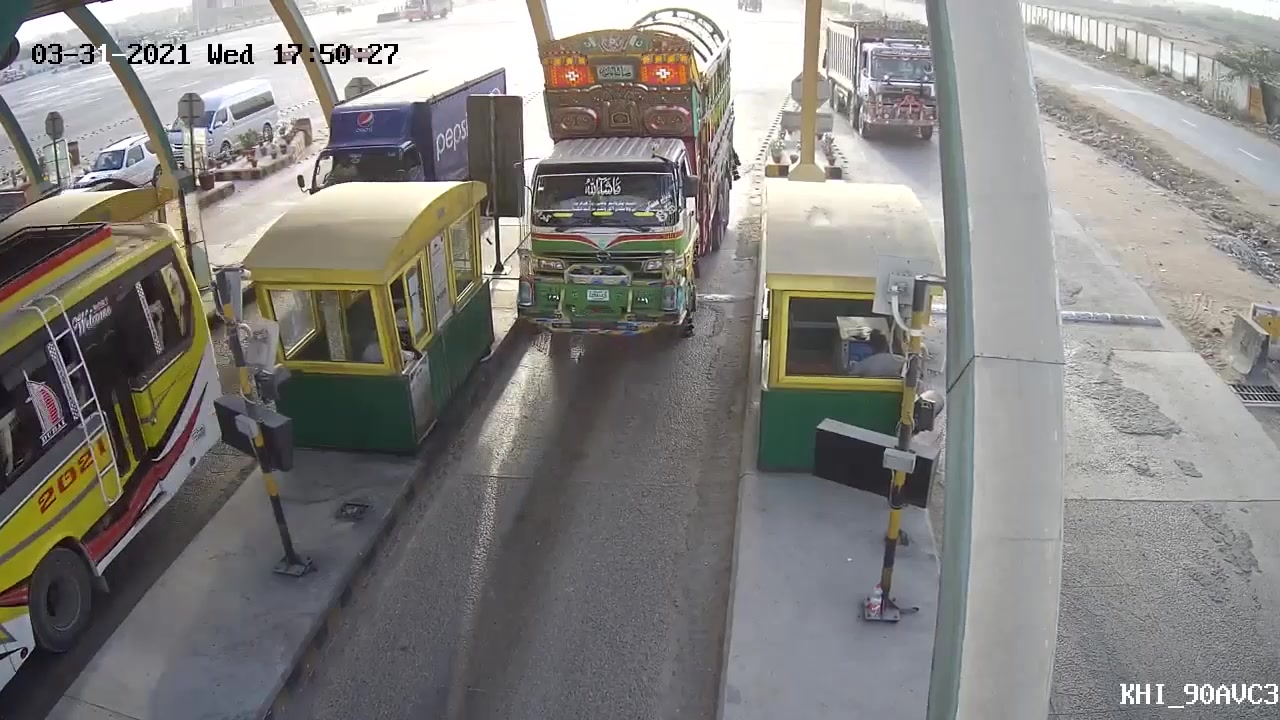F5: (508, 1, 745, 353)
